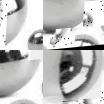ironball: (43, 50, 103, 103), (0, 50, 39, 98), (0, 0, 26, 46), (43, 0, 83, 27), (52, 30, 73, 50), (27, 26, 43, 49), (43, 27, 55, 50), (83, 10, 94, 29), (67, 45, 88, 49)
